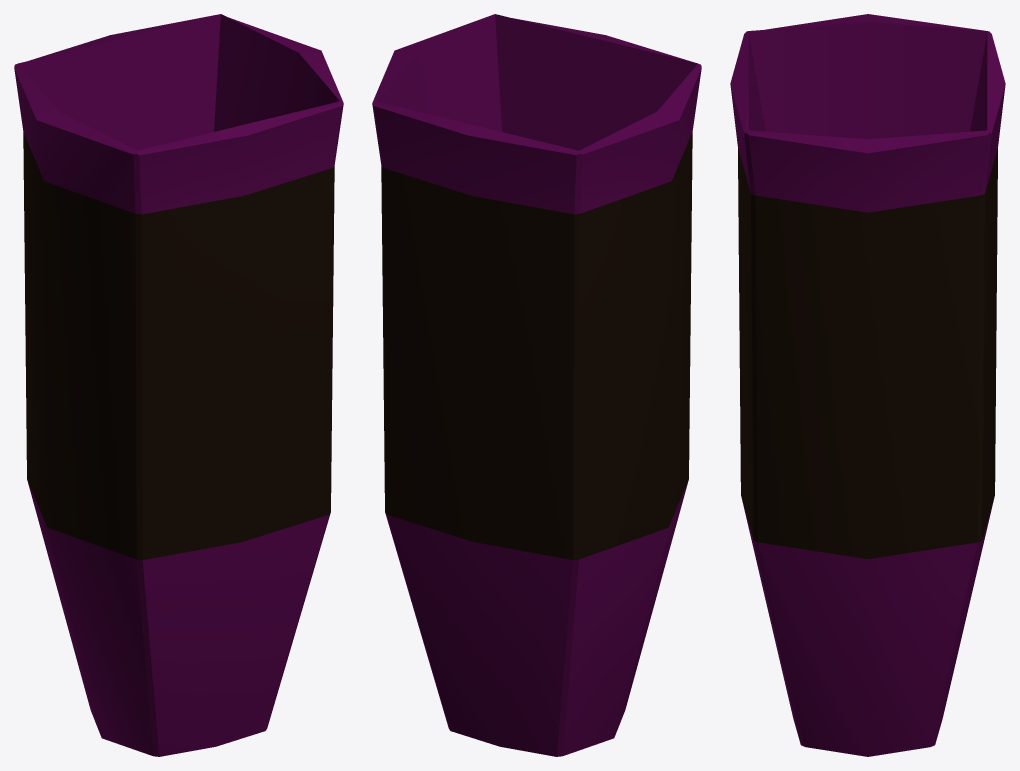
Rendered from Vase_Small.fbx.
3 views of the same model, side by side, from view 1: azimuth 30°, elevation 25°; view 2: azimuth 150°, elevation 25°; view 3: azimuth 270°, elevation 25° (orthographic).
Parts seen in each view (by area): view 1: Vase_Small; view 2: Vase_Small; view 3: Vase_Small.
Boxes of the visible parts, bbox=[...] form: Vase_Small: bbox=[14, 14, 343, 756]; Vase_Small: bbox=[372, 14, 701, 756]; Vase_Small: bbox=[730, 14, 1005, 756].
Size of the model in its own units: 1.71 by 3.65 by 1.43.
